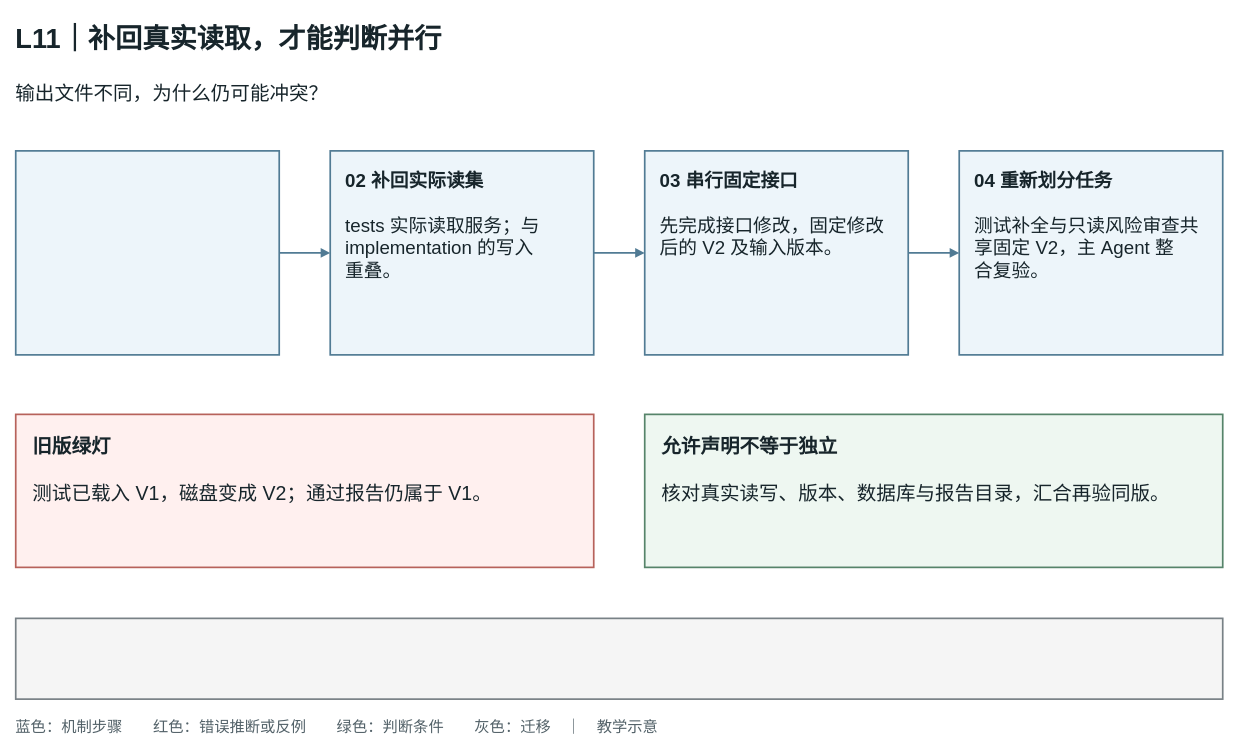
This 1238x756 diagram has some shape labels left out. The centre of each missing label's shape, as x and y in pixels:
01 漏报服务读取 implementation 改服务， tests 只声明写测试，显 示 allowed。: the point at 147,252
迁移到销售报表 整理 CSV 与按列作图有依赖，先冻结列与样例版本。: the point at 618,658
